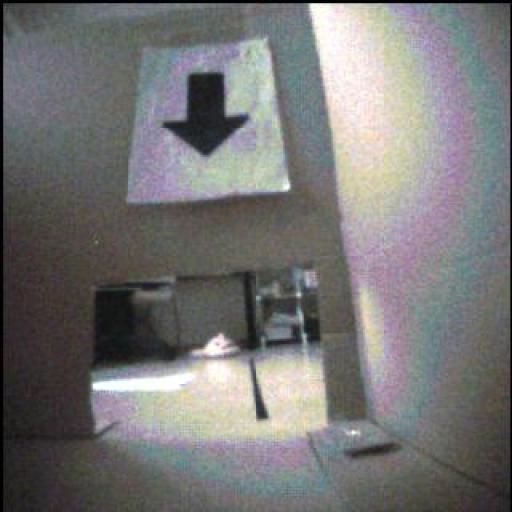arrow: (164, 75, 249, 156)
